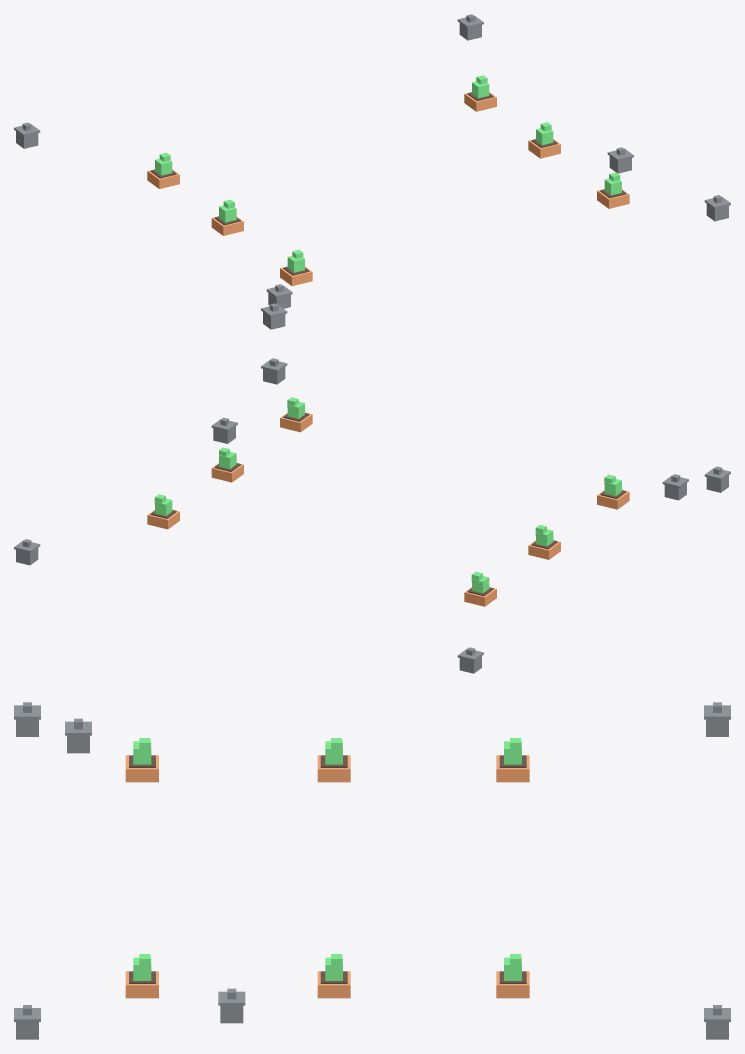
The model's file is arena-props.gltf.
3 views of the same model, one above another, from view 1: azimuth 30°, elevation 25°; view 2: azimuth 150°, elevation 25°; view 3: azimuth 270°, elevation 25° (orthographic). The views are drawn at different scales.
Size of the model in its own units: 29.05 by 1.58 by 28.05.
